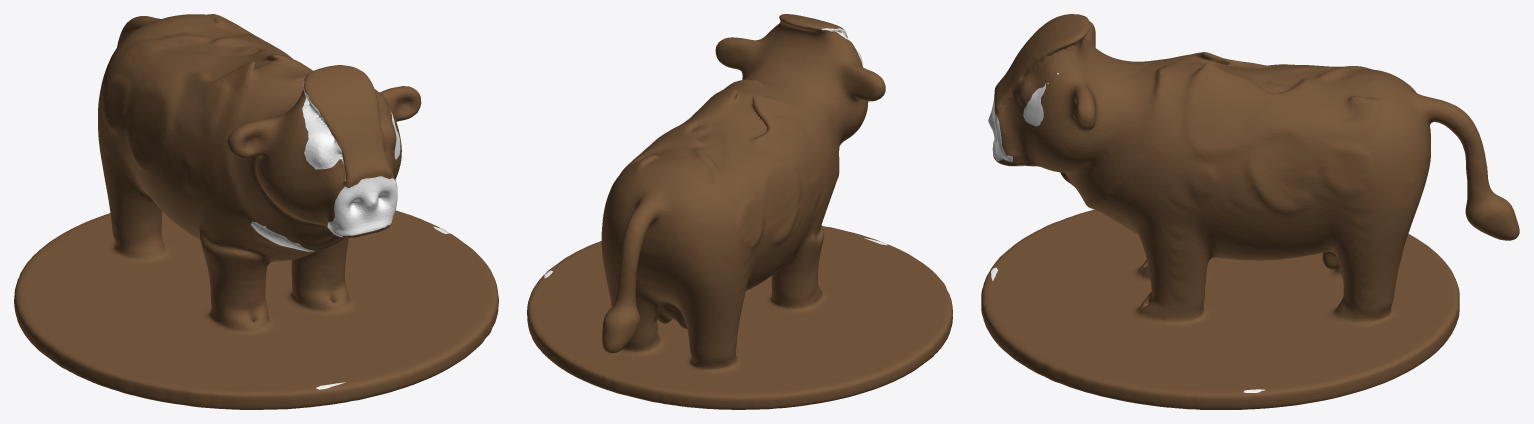
File: con_trau.glb
3 renders of one model, left to right at view 1: azimuth 30°, elevation 25°; view 2: azimuth 150°, elevation 25°; view 3: azimuth 270°, elevation 25°, orthographic. The views are drawn at different scales.
Parts seen in each view (by area): view 1: part_1, part_2; view 2: part_1; view 3: part_1, part_2.
Boxes of the visible parts, <box> form: part_1: <box>14,14,498,409</box>; part_2: <box>251,81,448,389</box>; part_1: <box>527,14,952,409</box>; part_1: <box>981,14,1519,409</box>; part_2: <box>988,73,1264,392</box>.
Size of the model in its own units: 1.79 by 1.19 by 2.01.
